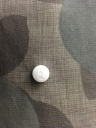Parol: (31, 64, 51, 84)
